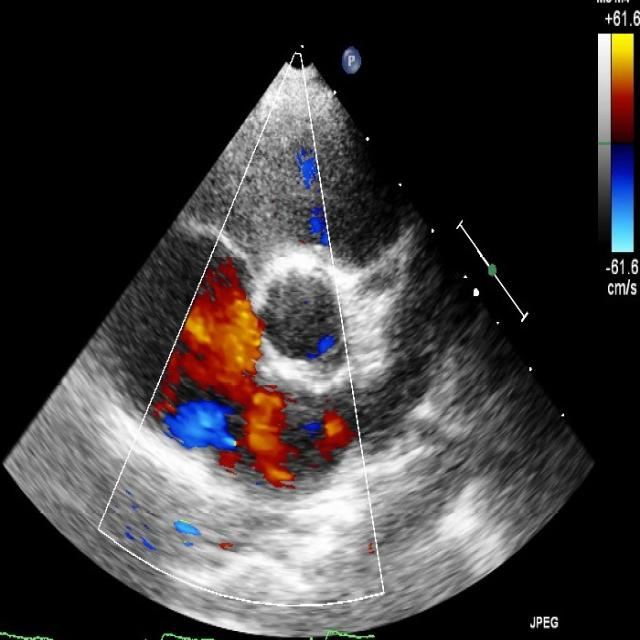ASDType2: (182, 342, 264, 469)
